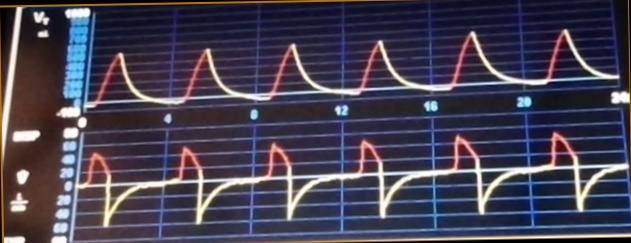Normal Flow: (79, 131, 627, 228)
Normal Volume: (94, 25, 618, 106)
